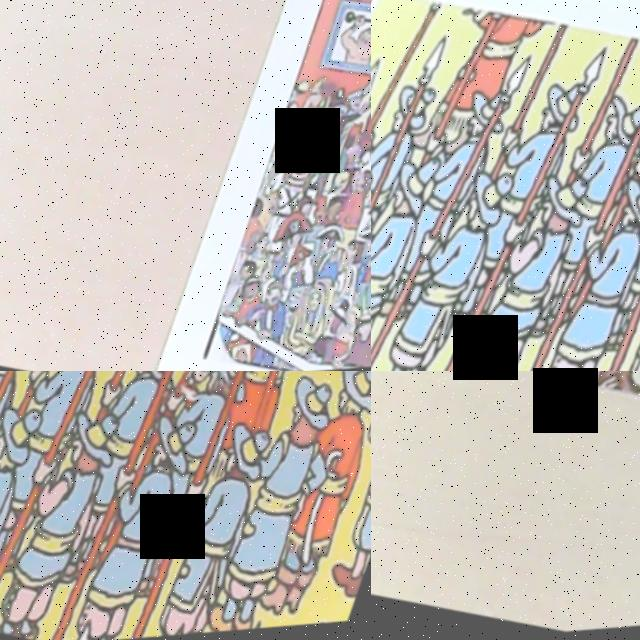waldo: (181, 371, 249, 414)
